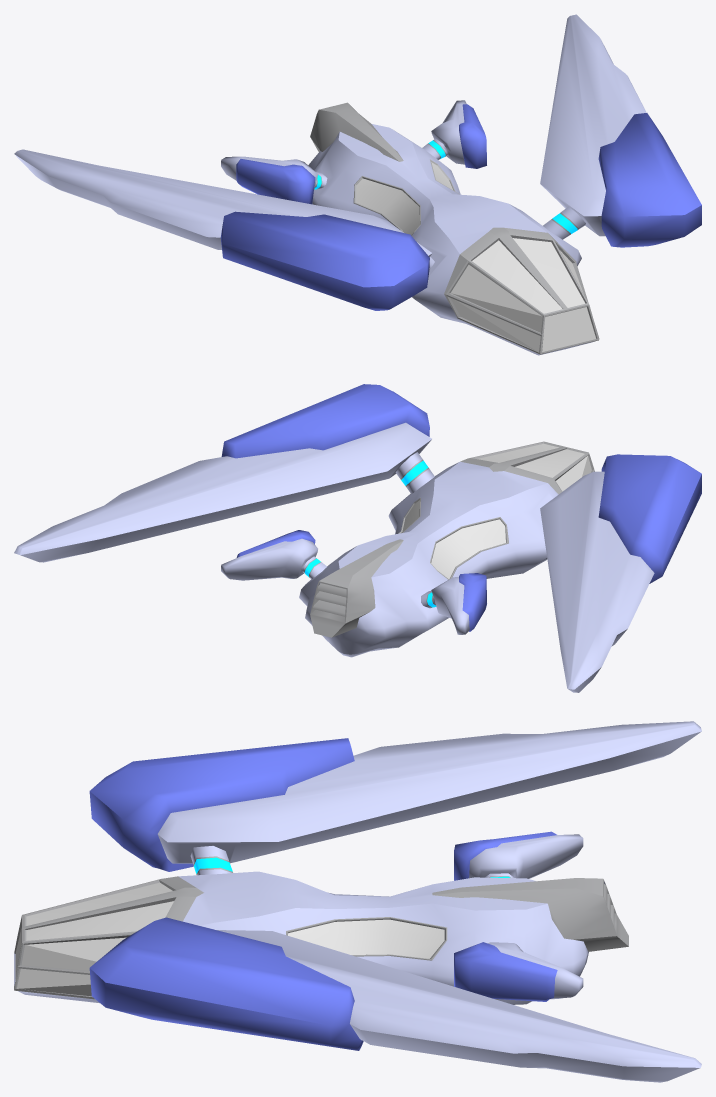
Rendered from Spaceship E (FBX).fbx.
3 views of the same model, one above another, from view 1: azimuth 30°, elevation 25°; view 2: azimuth 150°, elevation 25°; view 3: azimuth 270°, elevation 25° (orthographic). The views are drawn at different scales.
Visible parts, largest first — view 1: Spaceship Body; view 2: Spaceship Body; view 3: Spaceship Body.
Boxes of the visible parts, <box> form: Spaceship Body: <box>14,14,701,355</box>; Spaceship Body: <box>14,384,701,692</box>; Spaceship Body: <box>14,721,701,1082</box>.
Size of the model in its own units: 3481 by 720 by 2970.
